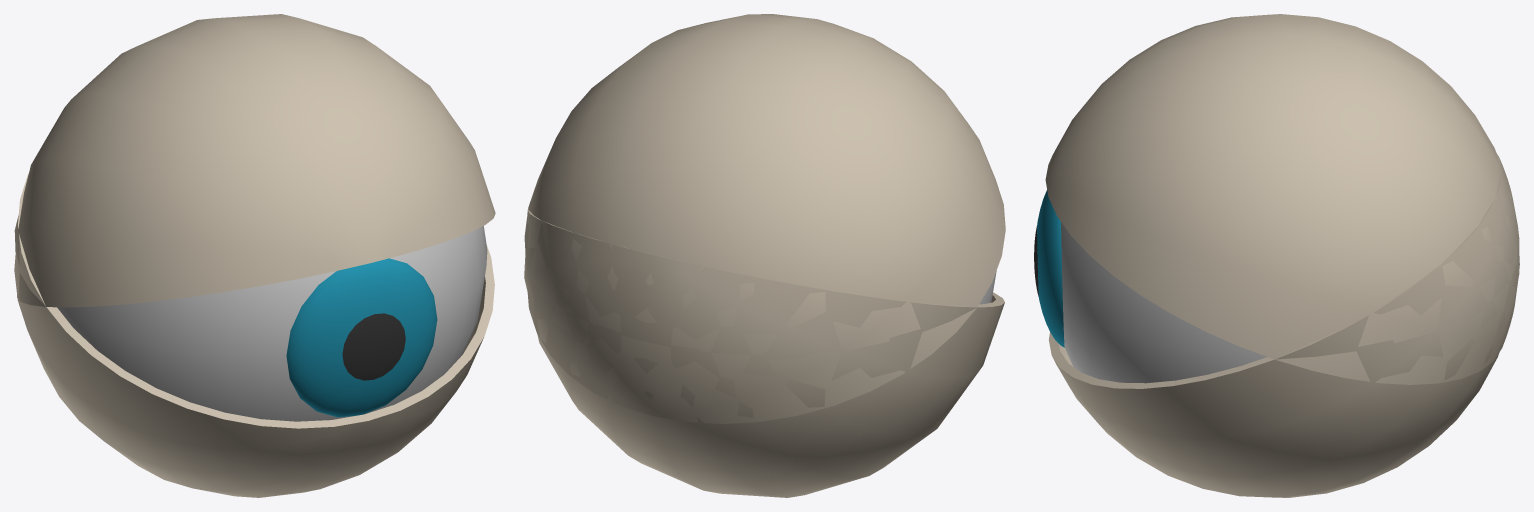
Rendered from Eye_lookLeft.fbx.
The picture shows the model from 3 angles, left to right: view 1: azimuth 30°, elevation 25°; view 2: azimuth 150°, elevation 25°; view 3: azimuth 270°, elevation 25°; orthographic projection.
Visible parts, largest first — view 1: upperEyeLid, lowerEyeLid, Eye, Iris, Pupil; view 2: upperEyeLid, lowerEyeLid; view 3: upperEyeLid, lowerEyeLid, Eye, Iris.
Part boxes in pixels (x1,y1,x2,y2): upperEyeLid: [14, 14, 495, 307]; lowerEyeLid: [14, 173, 494, 497]; Eye: [57, 226, 487, 421]; Iris: [286, 258, 437, 417]; Pupil: [342, 313, 405, 380]; upperEyeLid: [524, 14, 1005, 423]; lowerEyeLid: [524, 209, 1004, 497]; upperEyeLid: [1045, 14, 1519, 384]; lowerEyeLid: [1049, 153, 1519, 497]; Eye: [1061, 222, 1266, 383]; Iris: [1037, 190, 1064, 347].
Bounding box in the file's own units: 25.33 × 25.26 × 25.13.
